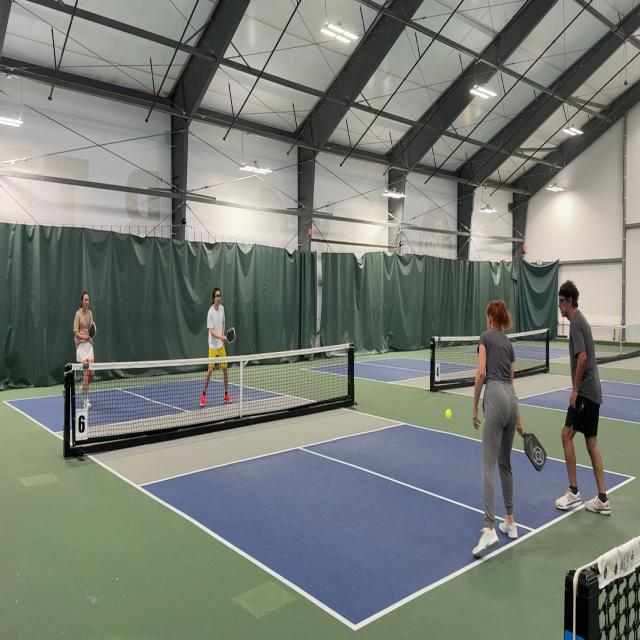ball: (445, 408, 452, 420)
